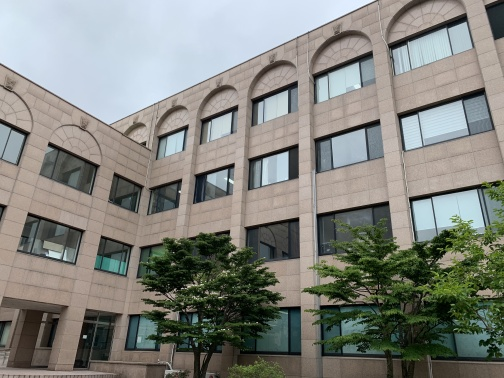Natural Science2: (135, 14, 499, 378)
